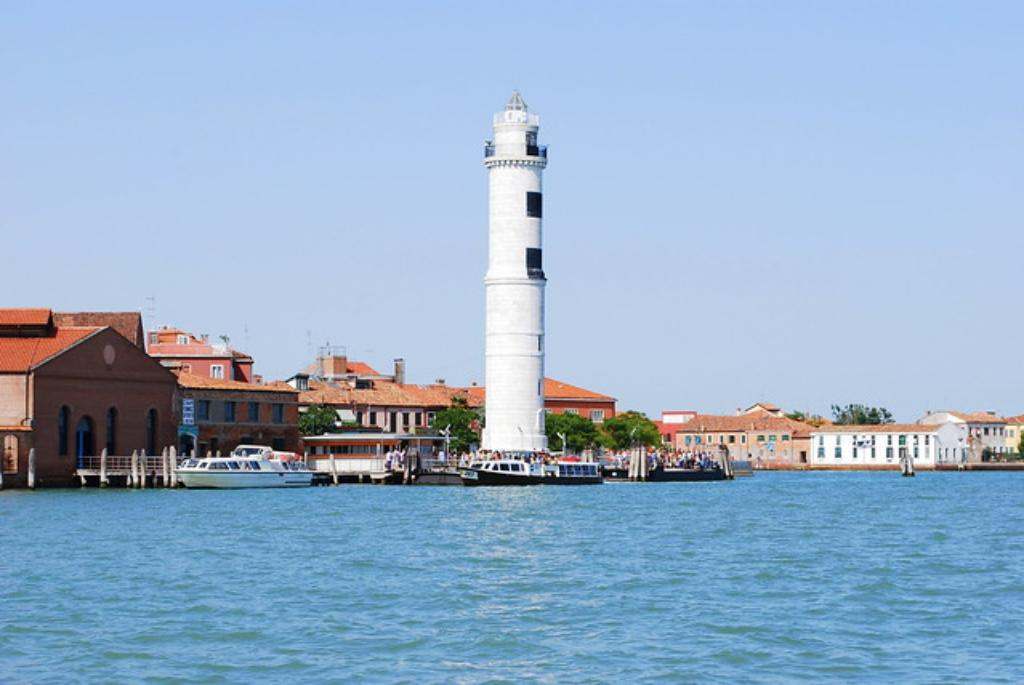PassengerShip: (439, 440, 611, 489), (181, 434, 315, 492)
